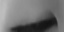LeftEyeFatigue: (6, 7, 61, 32)
